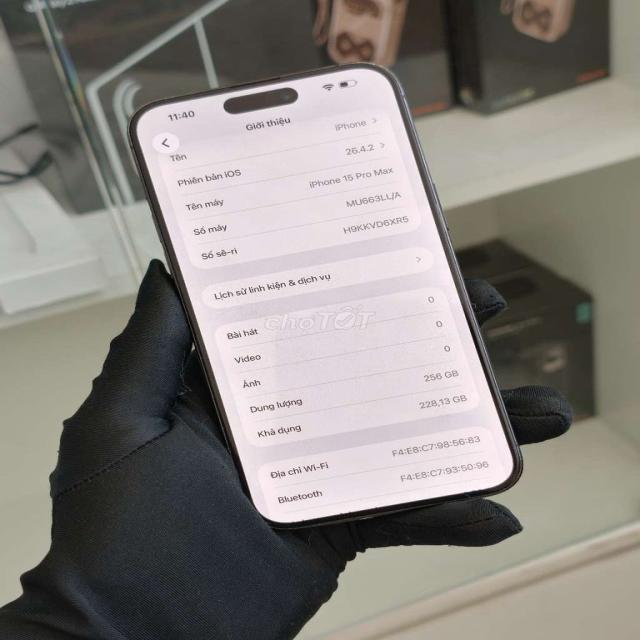gen_15: (113, 59, 524, 523)
